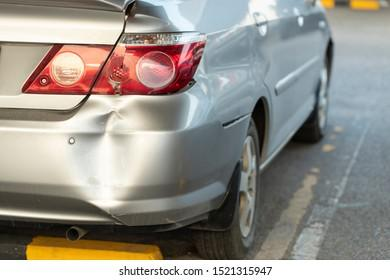rear-bumper-dent: (66, 101, 151, 211)
